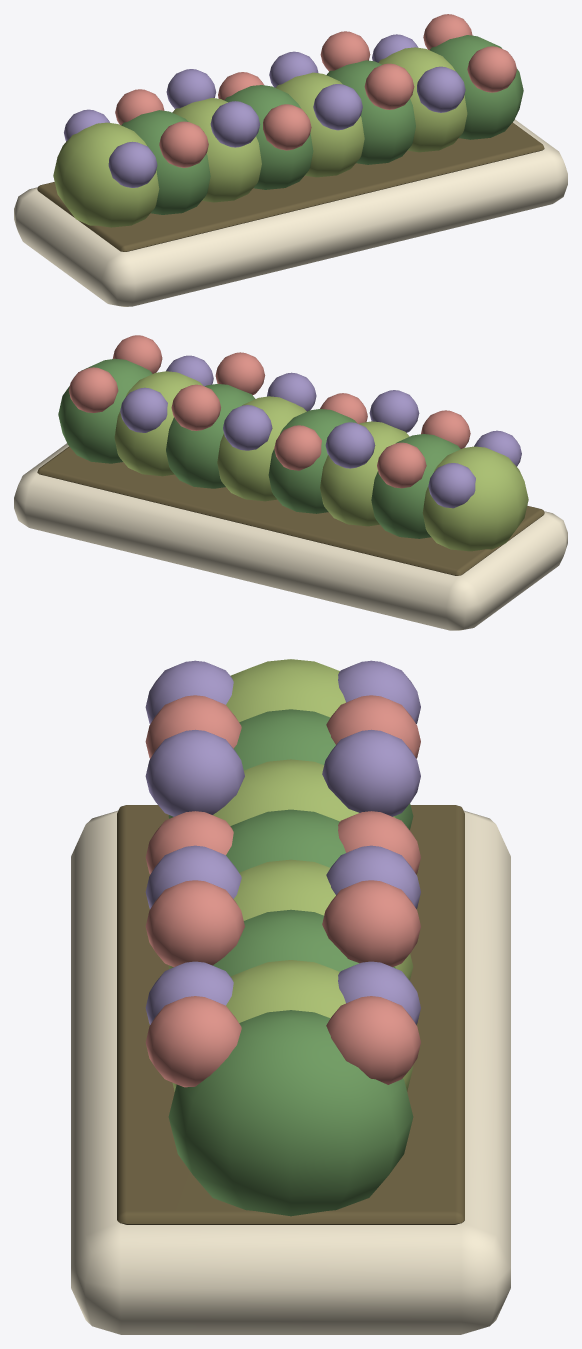
File: flowerbed.glb
3 views of the same model, one above another, from view 1: azimuth 30°, elevation 25°; view 2: azimuth 150°, elevation 25°; view 3: azimuth 270°, elevation 25° (orthographic). The views are drawn at different scales.
Parts seen in each view (by area): view 1: Raised planter, Soil, Garden foliage, Garden foliage.007, Garden foliage.005, Garden foliage.002, Garden foliage.001, Garden foliage.004, Garden foliage.003, Garden foliage.006, Flowers.004, Flowers.014 (+14 smaller); view 2: Raised planter, Soil, Garden foliage, Garden foliage.007, Garden foliage.005, Garden foliage.002, Garden foliage.004, Garden foliage.001, Garden foliage.003, Garden foliage.006, Flowers.005, Flowers.011 (+14 smaller); view 3: Raised planter, Soil, Garden foliage.007, Flowers.010, Flowers.004, Flowers.005, Flowers.011, Flowers.014, Flowers.015, Garden foliage.006, Garden foliage.003, Garden foliage (+14 smaller).
Boxes of the visible parts, left/top/right/bottom form: Raised planter: left=14, top=119, right=567, bottom=306; Soil: left=37, top=122, right=544, bottom=251; Garden foliage: left=53, top=122, right=159, bottom=227; Garden foliage.007: left=429, top=35, right=523, bottom=139; Garden foliage.005: left=326, top=60, right=415, bottom=164; Garden foliage.002: left=172, top=98, right=261, bottom=202; Garden foliage.001: left=121, top=110, right=210, bottom=214; Garden foliage.004: left=275, top=72, right=364, bottom=177; Garden foliage.003: left=224, top=85, right=313, bottom=189; Garden foliage.006: left=378, top=47, right=467, bottom=152; Flowers.004: left=210, top=101, right=260, bottom=147; Flowers.014: left=467, top=46, right=516, bottom=92; Raised planter: left=14, top=443, right=567, bottom=630; Soil: left=37, top=446, right=544, bottom=575; Garden foliage: left=422, top=446, right=528, bottom=551; Garden foliage.007: left=58, top=358, right=152, bottom=463; Garden foliage.005: left=166, top=384, right=255, bottom=488; Garden foliage.002: left=320, top=421, right=409, bottom=526; Garden foliage.004: left=217, top=396, right=306, bottom=501; Garden foliage.001: left=371, top=434, right=460, bottom=538; Garden foliage.003: left=268, top=409, right=357, bottom=513; Garden foliage.006: left=114, top=371, right=202, bottom=476; Flowers.005: left=325, top=422, right=375, bottom=468; Flowers.011: left=171, top=384, right=220, bottom=430; Raised planter: left=71, top=810, right=510, bottom=1334; Soil: left=117, top=805, right=464, bottom=1224; Garden foliage.007: left=168, top=1010, right=413, bottom=1216; Flowers.010: left=145, top=880, right=244, bottom=966; Flowers.004: left=145, top=729, right=244, bottom=816; Flowers.005: left=322, top=729, right=420, bottom=816; Flowers.011: left=322, top=880, right=420, bottom=967; Flowers.014: left=145, top=996, right=241, bottom=1087; Flowers.015: left=326, top=996, right=420, bottom=1084; Garden foliage.006: left=172, top=960, right=413, bottom=1091; Garden foliage.003: left=226, top=809, right=345, bottom=872; Garden foliage: left=226, top=659, right=345, bottom=722.
Bounding box in the file's own units: 2.8 × 0.91 × 1.15.
